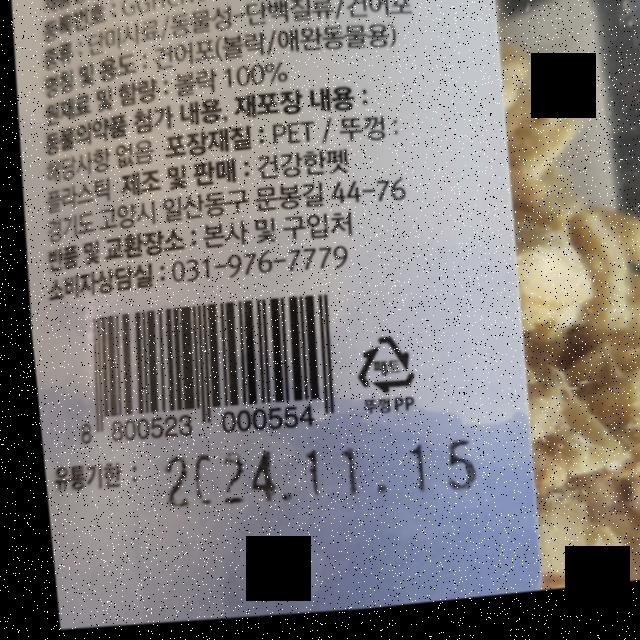PET: (342, 336, 410, 402)
